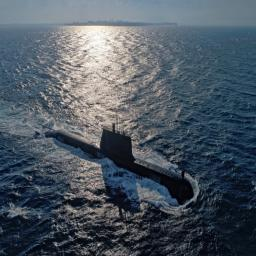submarine: (36, 116, 196, 200)
